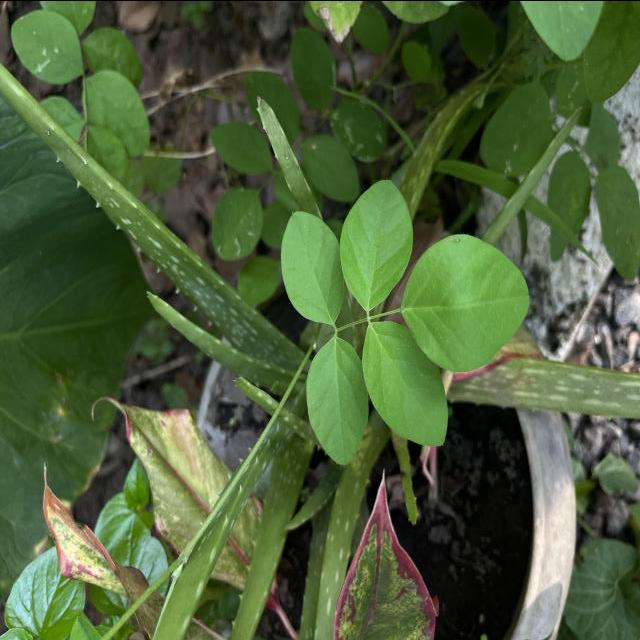Clitoria ternatea: (399, 232, 531, 374), (360, 319, 450, 447), (338, 178, 414, 310), (306, 334, 370, 466), (280, 208, 346, 324), (368, 334, 371, 335)
